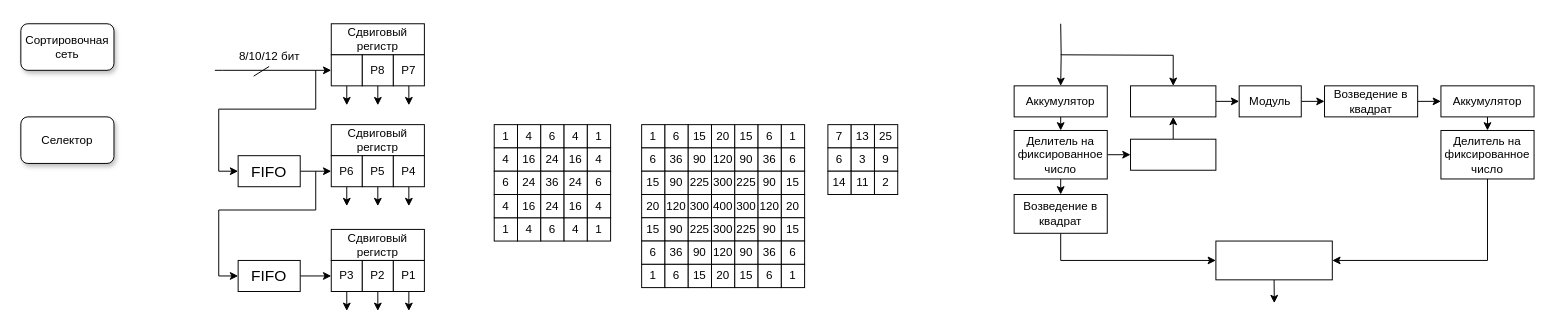
The diagram is 1551 pixels wide and 336 high, and some of its shapes have lost their labels. The shapes that lost their labels are listed below. From the top down, each one's centre as x and y in pixels, then its label:
point (346, 70): P9
point (1173, 101): Вычитание
point (1173, 154): Задержка на 1 кадр
point (1273, 260): Делитель произвольных чисел
